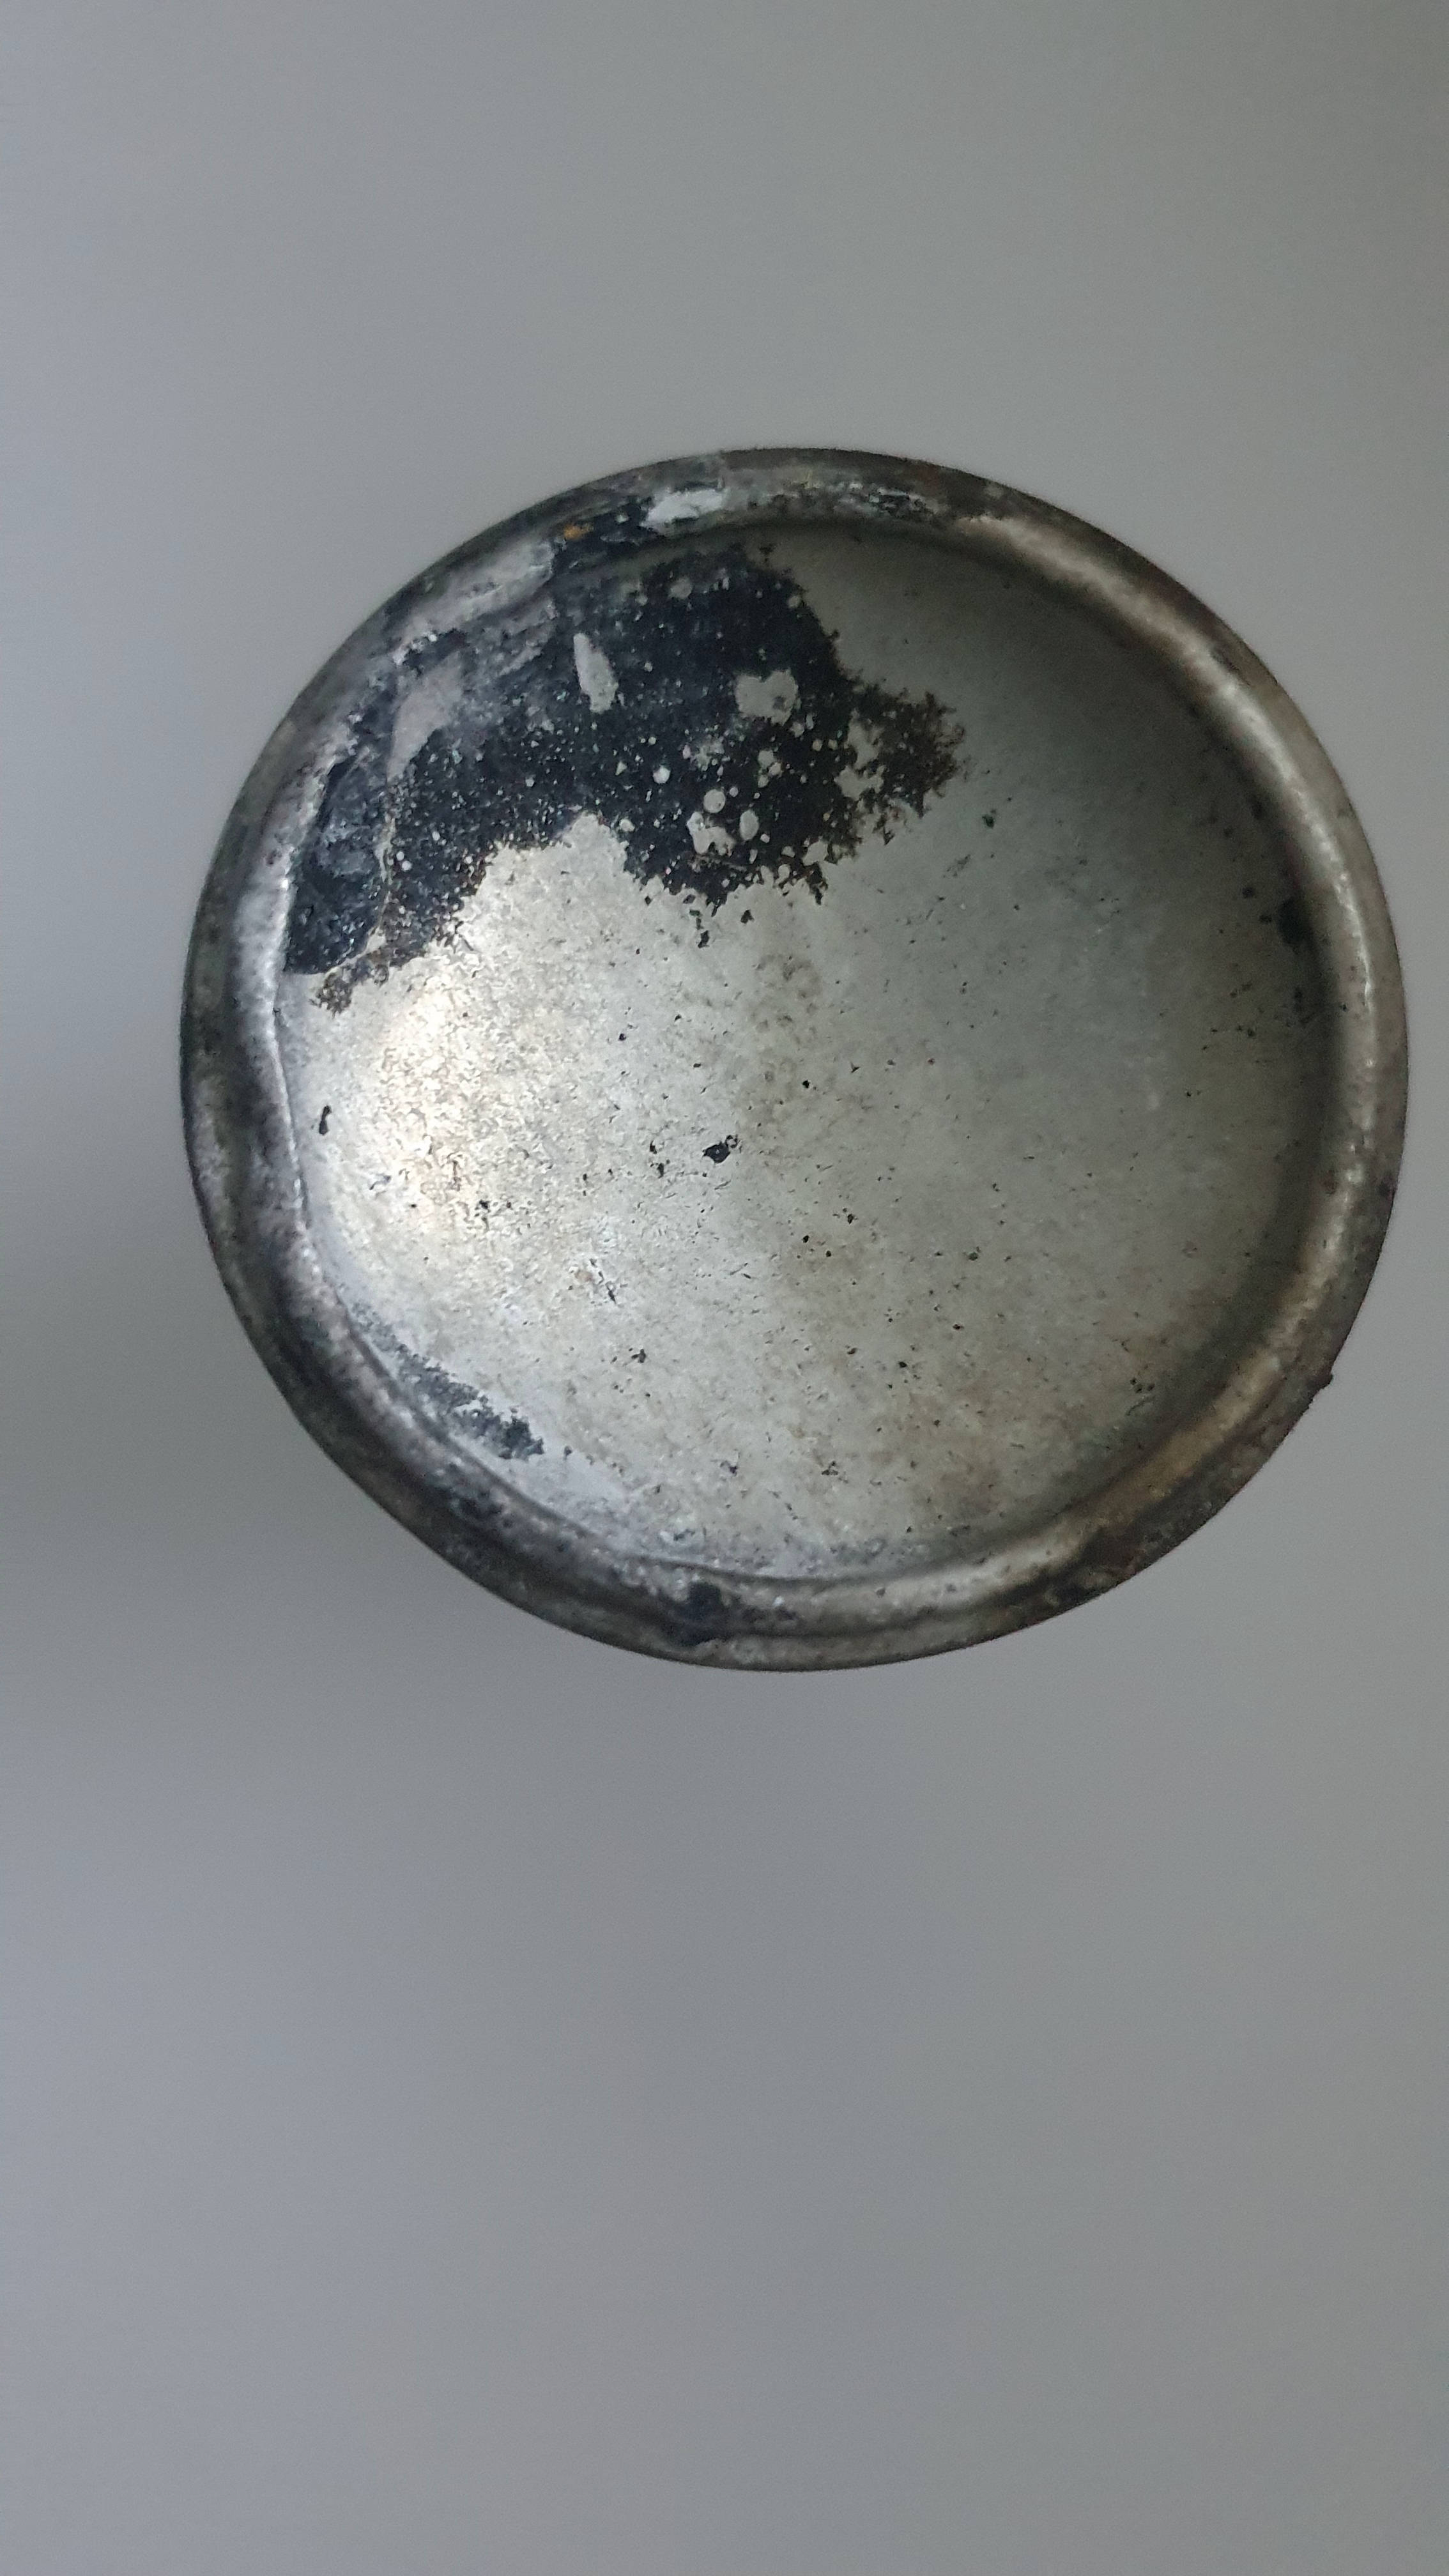metal: (143, 412, 1430, 1693)
